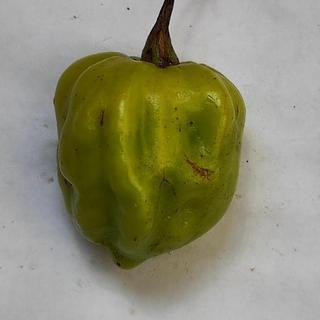Fly-bites: (188, 118, 195, 128), (177, 125, 183, 136), (198, 152, 205, 159), (173, 105, 179, 111), (175, 115, 180, 121)
striped: (99, 107, 106, 128)
